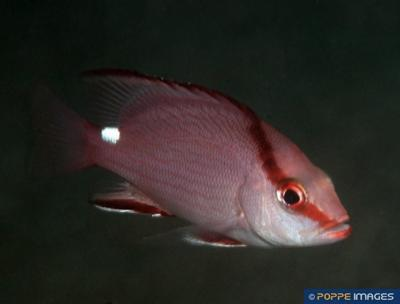Lutjanidae -Snappers-: (18, 61, 360, 255)
